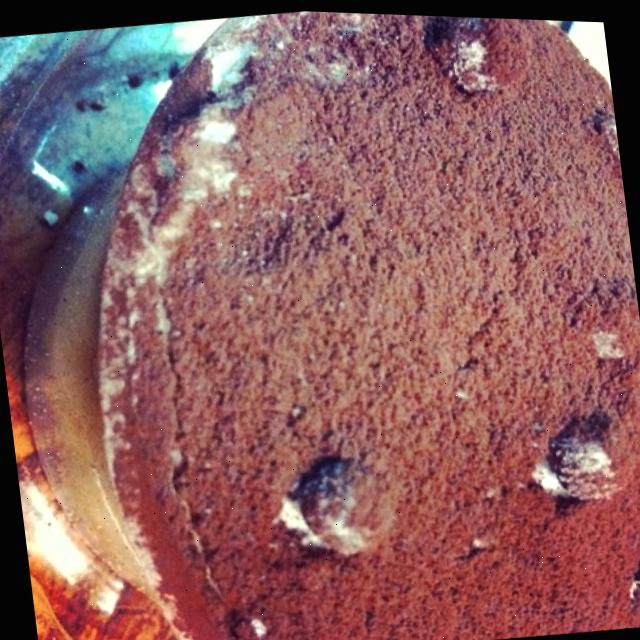蛋糕甜品: (43, 1, 640, 640)
